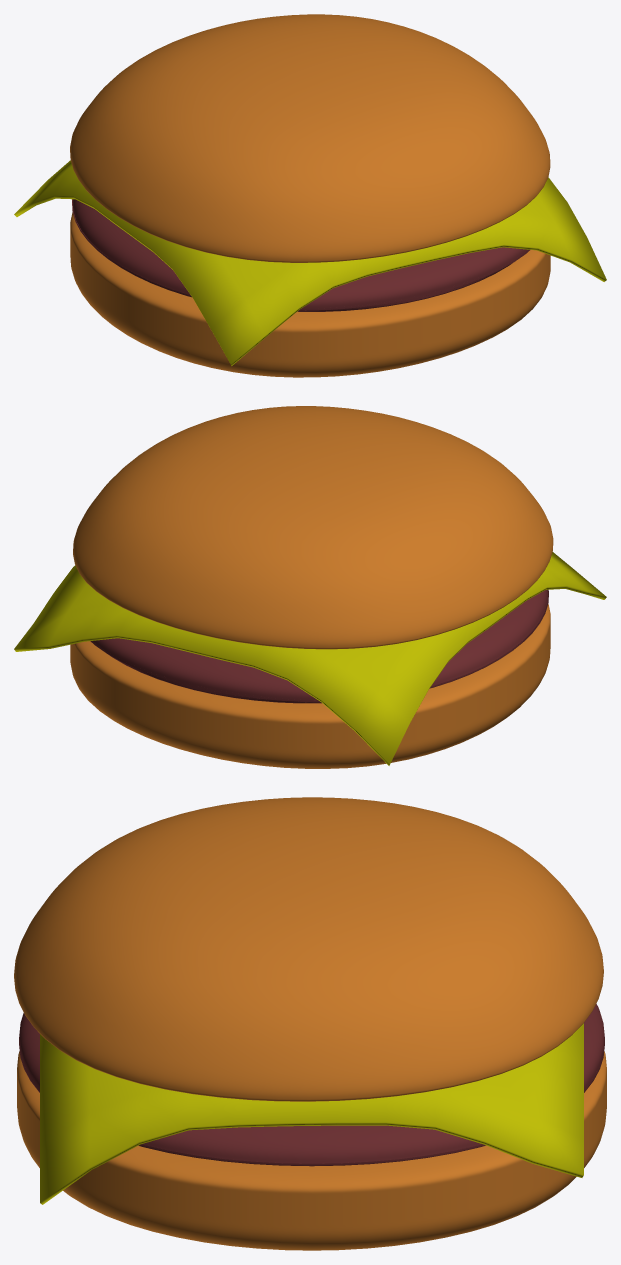
Rendered from hamburger.glb.
3 views of the same model, one above another, from view 1: azimuth 30°, elevation 25°; view 2: azimuth 150°, elevation 25°; view 3: azimuth 270°, elevation 25° (orthographic). The views are drawn at different scales.
Visible parts, largest first — view 1: Cube.002, Cube, Plane, Cube.001; view 2: Cube.002, Cube, Plane, Cube.001; view 3: Cube.002, Cube, Plane, Cube.001.
Part boxes in pixels (x1,y1,x2,y2): Cube.002: (70, 14, 550, 262); Cube: (70, 212, 550, 377); Plane: (14, 160, 606, 365); Cube.001: (72, 199, 529, 311); Cube.002: (73, 406, 553, 649); Cube: (70, 604, 550, 768); Plane: (14, 552, 606, 765); Cube.001: (90, 589, 548, 703); Cube.002: (14, 797, 603, 1101); Cube: (17, 1051, 606, 1250); Plane: (40, 1023, 583, 1204); Cube.001: (19, 1004, 604, 1166).
Size of the model in its own units: 9.15 by 5.2 by 9.16.
